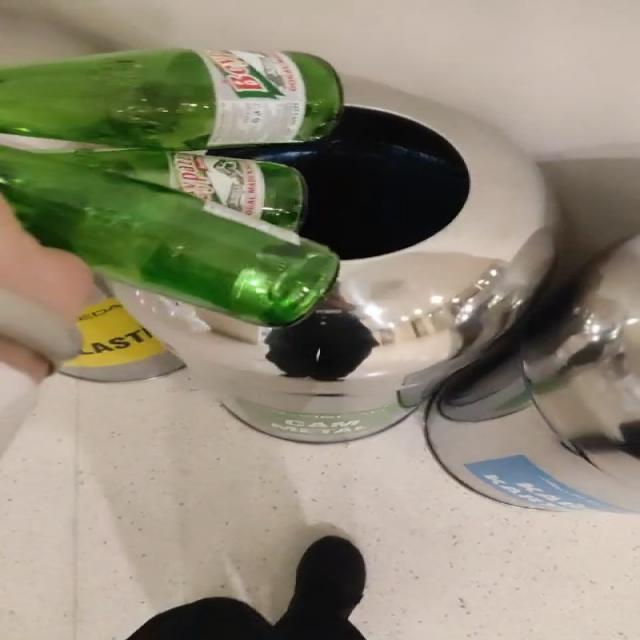Bin: (113, 77, 553, 444)
Glass: (1, 49, 343, 326)
